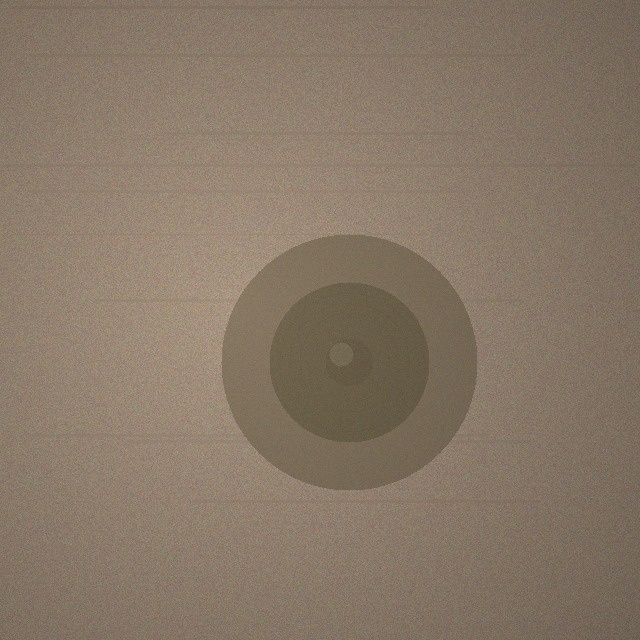good: (221, 234, 477, 490)
